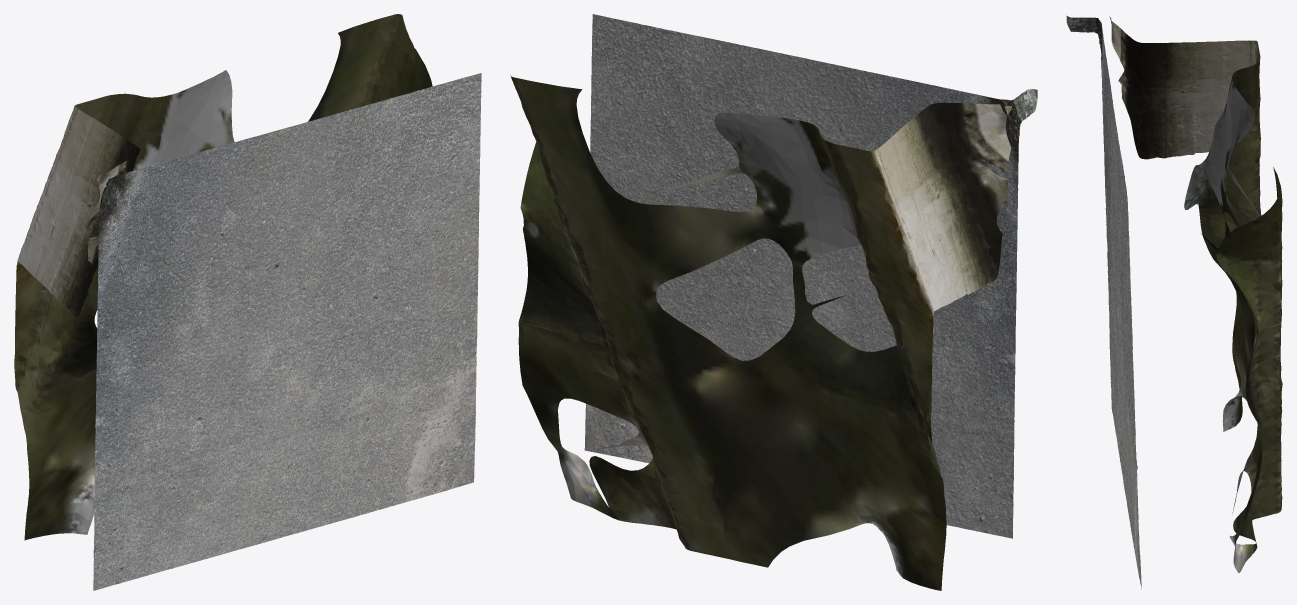
File: Tile_+004_+005.obj
3 views of the same model, side by side, from view 1: azimuth 30°, elevation 25°; view 2: azimuth 150°, elevation 25°; view 3: azimuth 270°, elevation 25° (orthographic). The views are drawn at different scales.
Size of the model in its own units: 3.03 by 3.03 by 1.51.
1 material, 1 textured.
